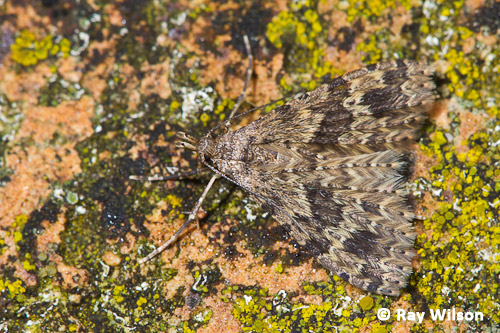Alucitidae: (100, 26, 437, 293)
moth: (98, 24, 435, 291)
